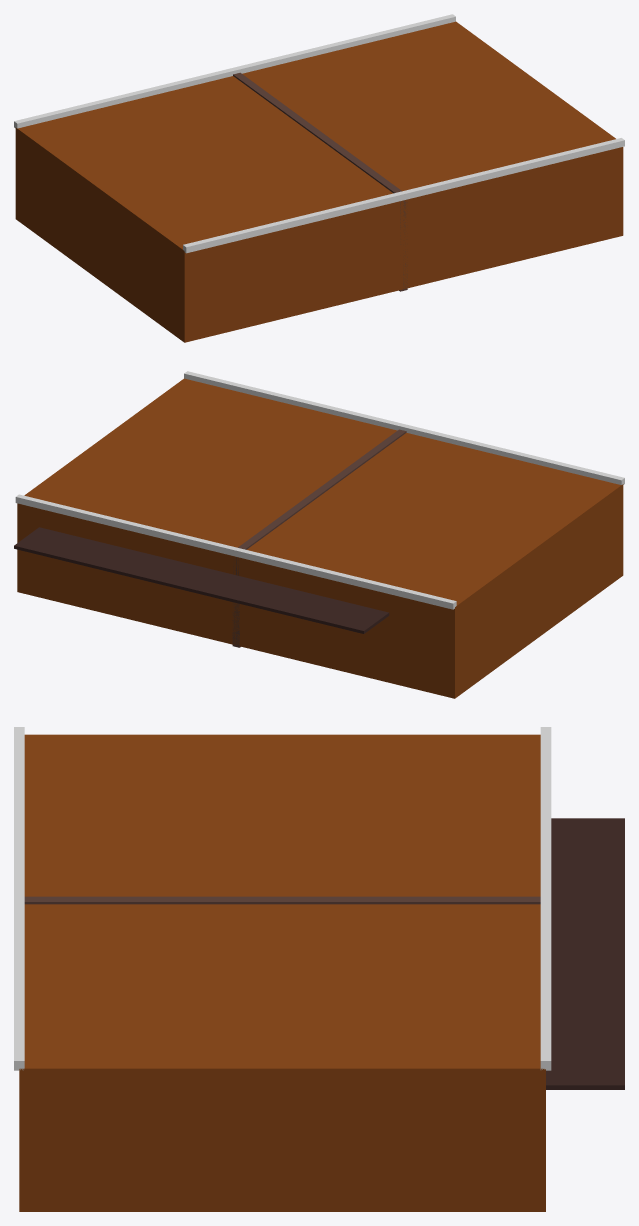
The model's file is wallet.glb.
3 renders of one model, top to bottom at view 1: azimuth 30°, elevation 25°; view 2: azimuth 150°, elevation 25°; view 3: azimuth 270°, elevation 25°, orthographic. The views are drawn at different scales.
Bounding box in the file's own units: 3 × 0.642 × 2.32.
